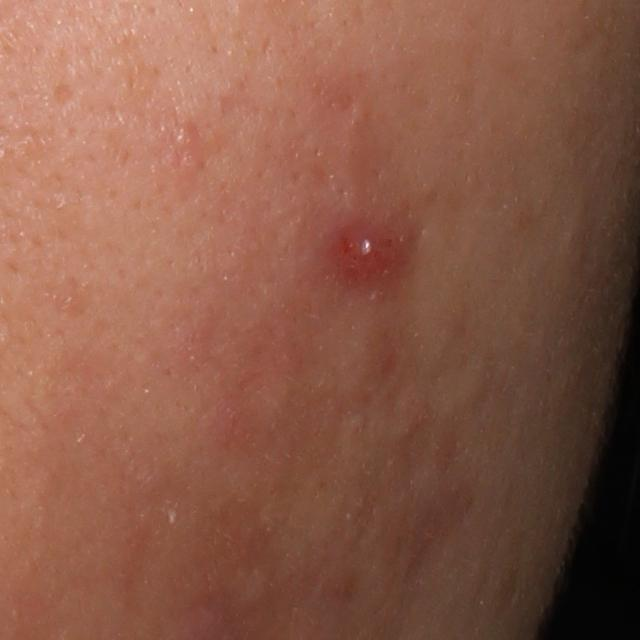atrophic_scar: (51, 82, 80, 109)
